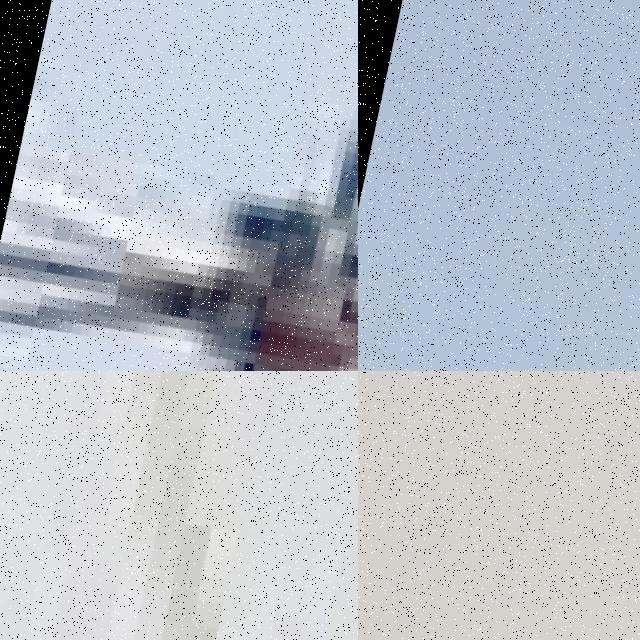0: (0, 0, 358, 371)
drone: (0, 371, 358, 640)
